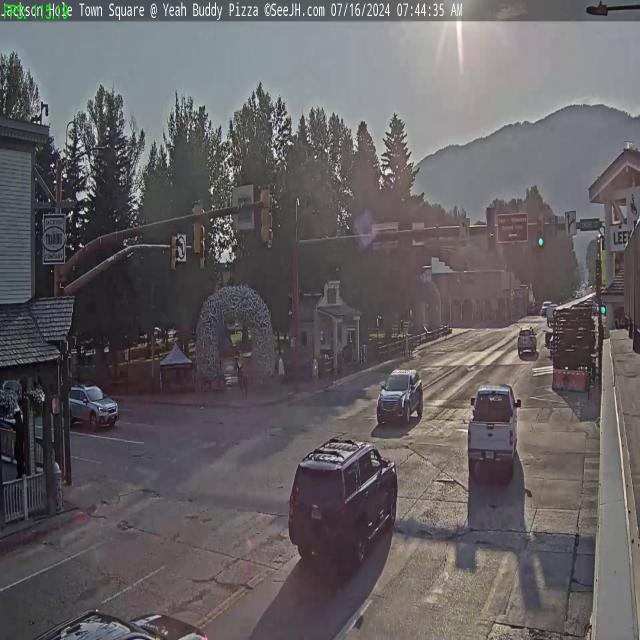person: (239, 354, 248, 399)
pickup: (465, 380, 521, 476)
suv: (286, 432, 401, 569), (376, 368, 424, 428), (66, 382, 118, 432), (517, 326, 536, 354)
traffic light: (260, 183, 273, 246), (486, 207, 496, 252), (170, 233, 180, 272), (536, 215, 546, 248), (200, 236, 208, 269)
